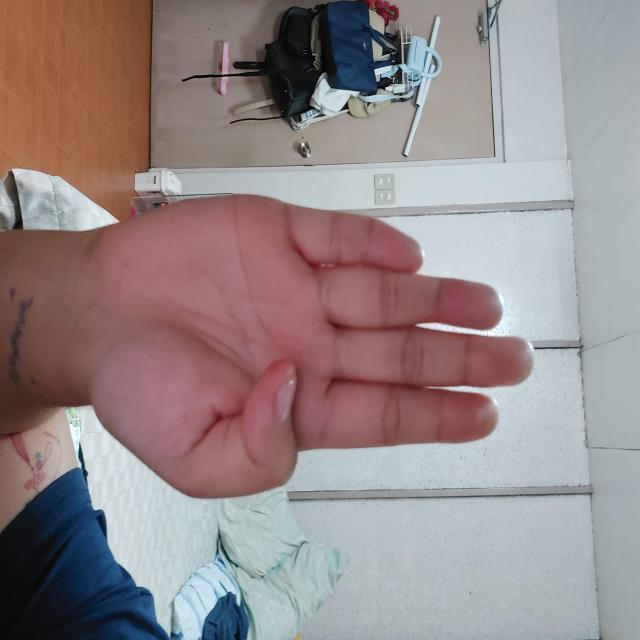B: (194, 105, 501, 564)
